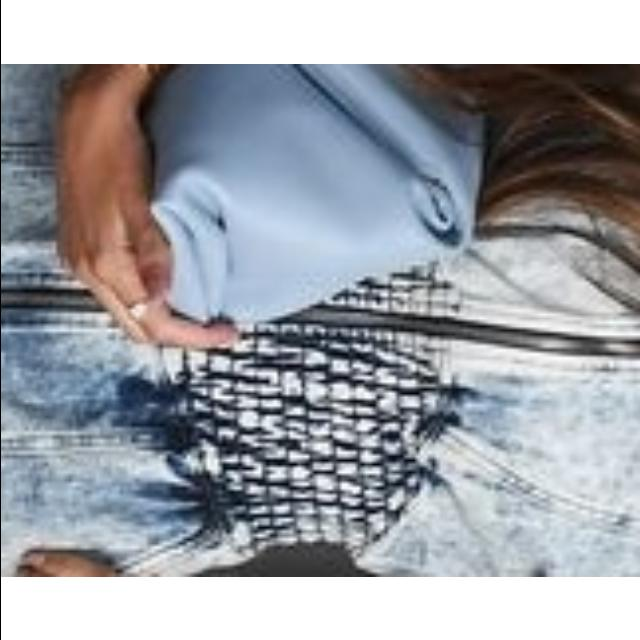denim: (1, 308, 170, 568)
